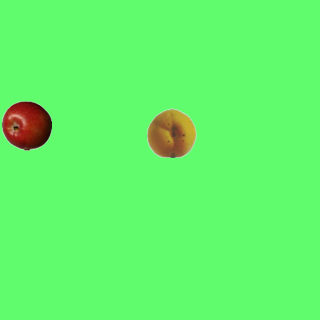Apple Braeburn: (1, 100, 51, 150)
Peach 2: (146, 107, 196, 157)
